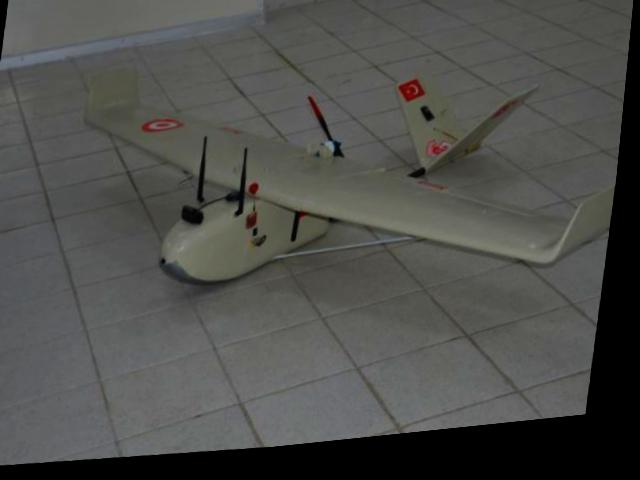iha: (34, 12, 635, 318)
